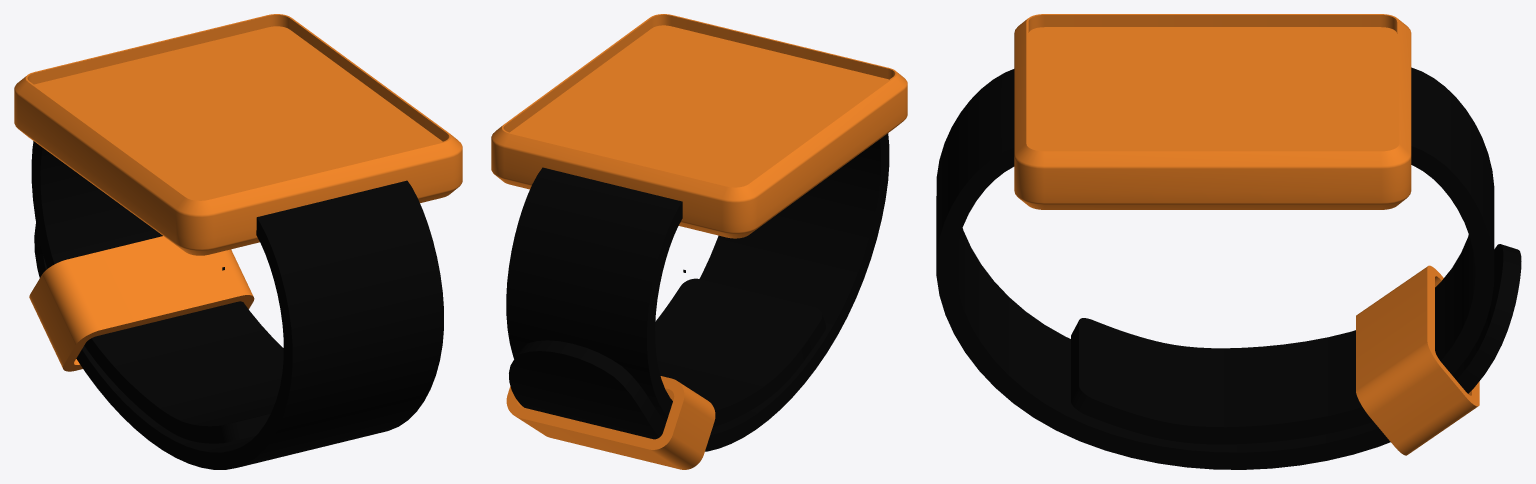
Rendered from Smartwatch.fbx.
3 views of the same model, side by side, from view 1: azimuth 30°, elevation 25°; view 2: azimuth 150°, elevation 25°; view 3: azimuth 270°, elevation 25° (orthographic). The views are drawn at different scales.
Visible parts, largest first — view 1: Smartwatch, Cube.011, Cube.016; view 2: Smartwatch, Cube.011, Cube.016; view 3: Cube.011, Smartwatch, Cube.016.
Boxes of the visible parts, x1,y1,x2,y2 form: Smartwatch: [31, 141, 443, 469]; Cube.011: [14, 14, 462, 255]; Cube.016: [29, 236, 254, 371]; Smartwatch: [506, 133, 889, 451]; Cube.011: [491, 14, 907, 238]; Cube.016: [506, 376, 715, 469]; Cube.011: [1014, 14, 1411, 209]; Smartwatch: [936, 67, 1521, 469]; Cube.016: [1356, 265, 1479, 455].
Size of the model in its own units: 54.85 by 60.22 by 91.86.
